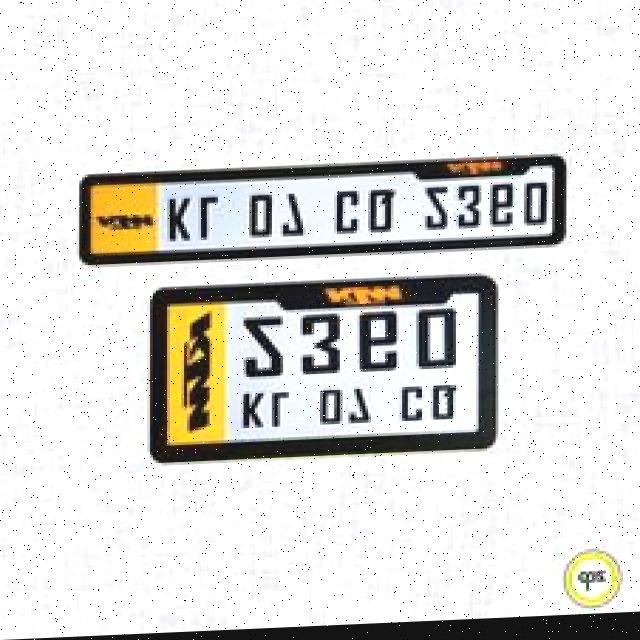plate: (145, 273, 504, 470), (74, 158, 572, 272)
